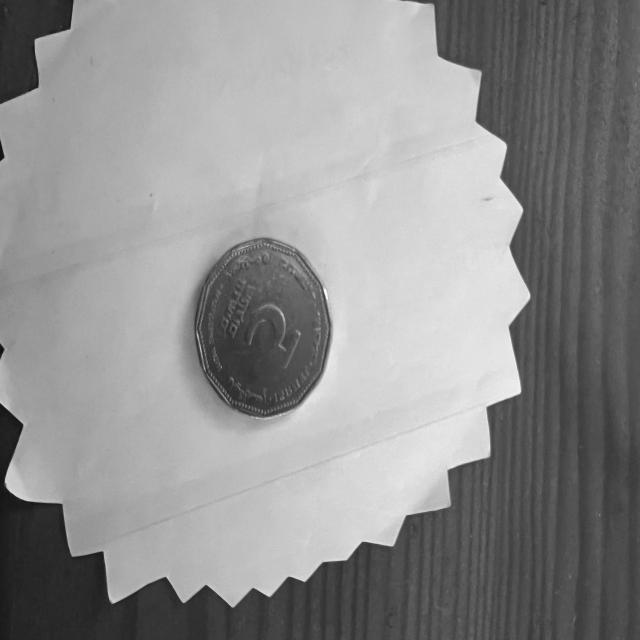5-shekel: (189, 234, 331, 423)
